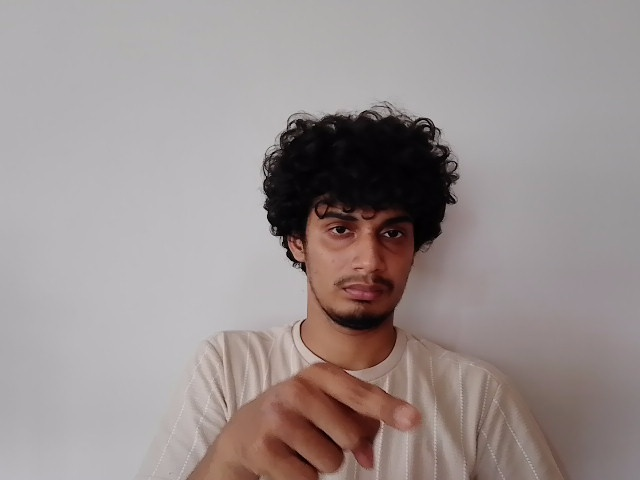you: (224, 362, 423, 480)
